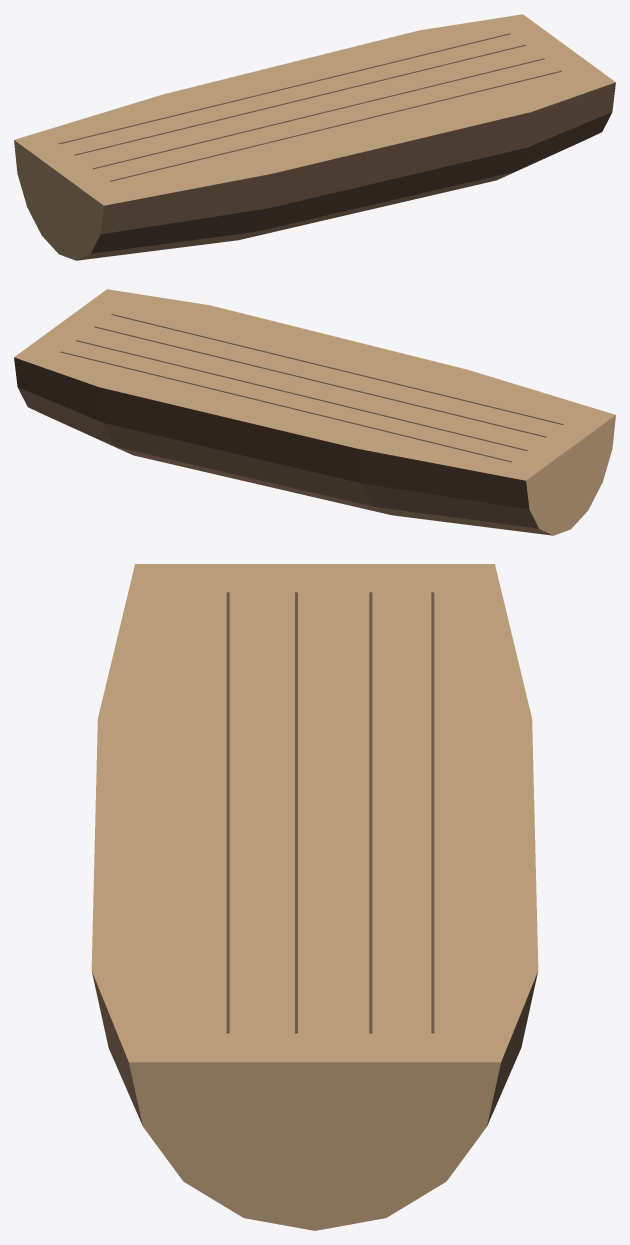
File: split-log.glb
3 renders of one model, top to bottom at view 1: azimuth 30°, elevation 25°; view 2: azimuth 150°, elevation 25°; view 3: azimuth 270°, elevation 25°, orthographic. The views are drawn at different scales.
Visible parts, largest first — view 1: split-log; view 2: split-log; view 3: split-log.
Boxes of the visible parts, x1,y1,x2,y2 form: split-log: [14, 14, 615, 260]; split-log: [14, 289, 615, 535]; split-log: [91, 564, 538, 1230].
Bounding box in the file's own units: 0.95 × 0.1806 × 0.36.
